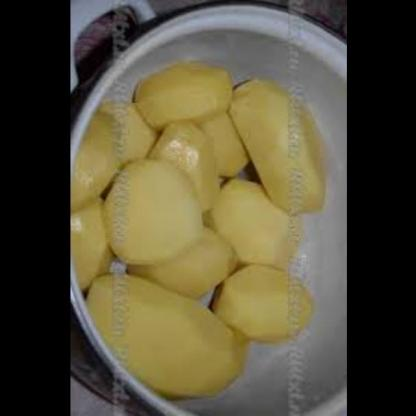potato: (89, 277, 256, 396), (240, 82, 335, 208), (97, 160, 206, 266), (127, 57, 240, 140), (211, 189, 306, 287), (126, 226, 241, 298), (226, 262, 317, 352), (71, 116, 140, 221), (164, 121, 242, 203), (106, 98, 169, 170), (70, 198, 118, 284)
